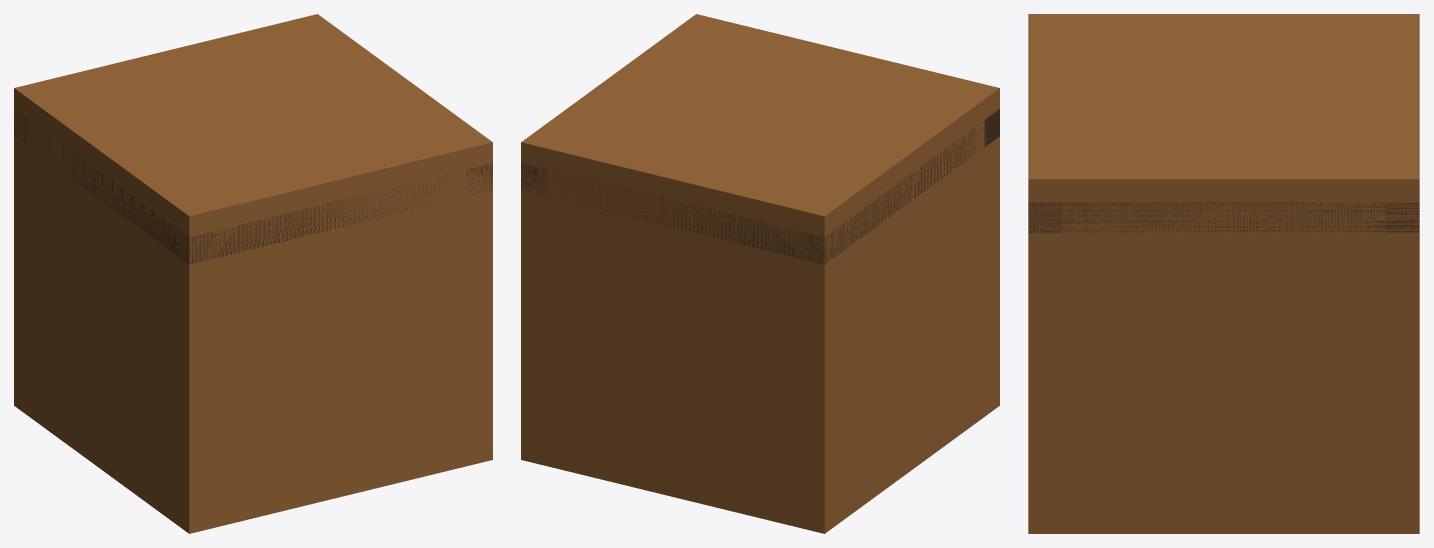
File: metaverse-hub-crate-high.gltf
3 renders of one model, left to right at view 1: azimuth 30°, elevation 25°; view 2: azimuth 150°, elevation 25°; view 3: azimuth 270°, elevation 25°, orthographic. The views are drawn at different scales.
Parts seen in each view (by area): view 1: metaverse_hub_crate_high; view 2: metaverse_hub_crate_high; view 3: metaverse_hub_crate_high.
Boxes of the visible parts, bbox=[...] form: metaverse_hub_crate_high: bbox=[14, 14, 492, 533]; metaverse_hub_crate_high: bbox=[521, 14, 999, 533]; metaverse_hub_crate_high: bbox=[1028, 14, 1419, 533].
Size of the model in its own units: 0.92 by 0.92 by 0.92.
